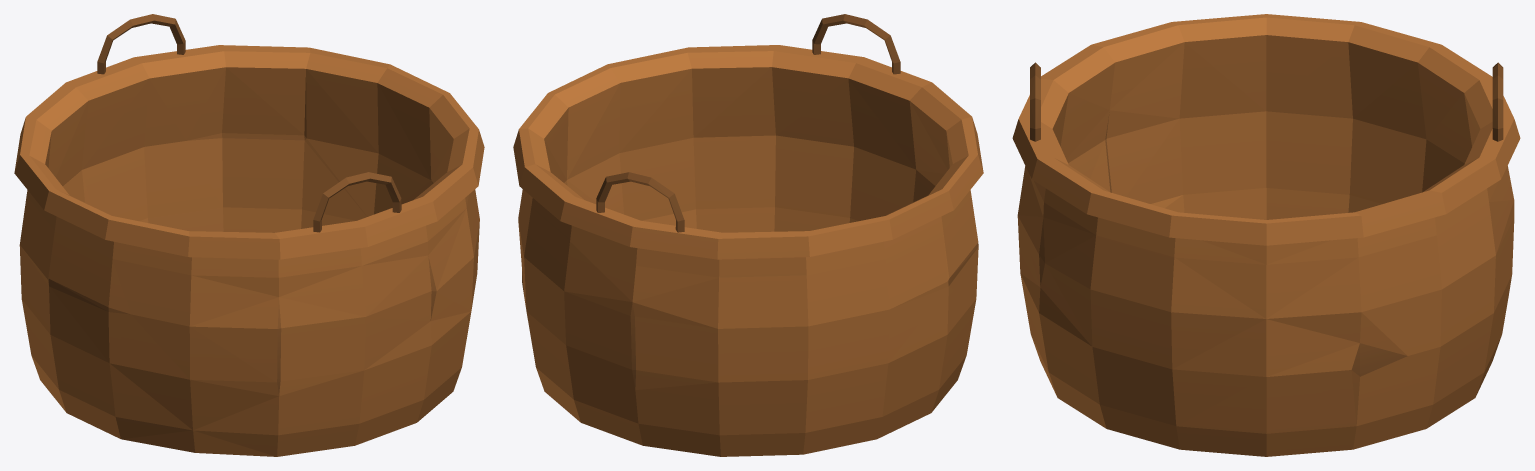
Rendered from Prop_Basket_02.obj.
3 renders of one model, left to right at view 1: azimuth 30°, elevation 25°; view 2: azimuth 150°, elevation 25°; view 3: azimuth 270°, elevation 25°, orthographic. The views are drawn at different scales.
Visible parts, largest first — view 1: Prop_Basket_02; view 2: Prop_Basket_02; view 3: Prop_Basket_02.
Part boxes in pixels (x1,y1,x2,y2): Prop_Basket_02: [14, 14, 484, 456]; Prop_Basket_02: [513, 14, 983, 456]; Prop_Basket_02: [1012, 14, 1520, 456].
Size of the model in its own units: 0.4662 by 0.2957 by 0.4662.
1 material, 1 textured.
